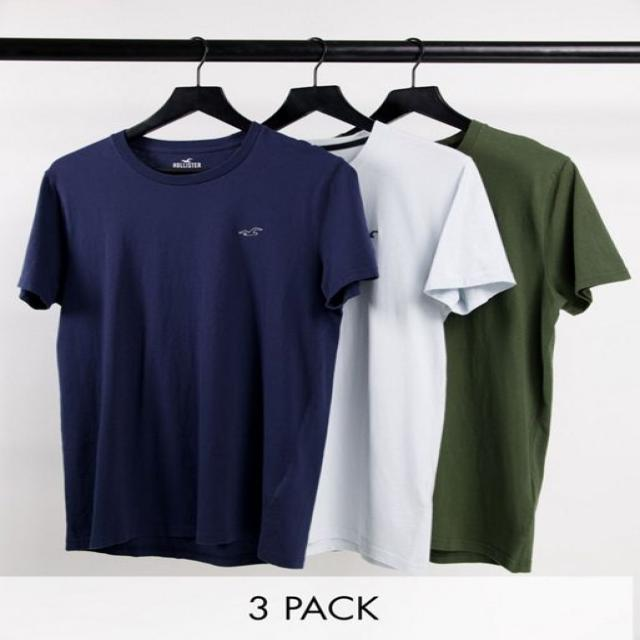tshirt: (18, 117, 376, 566)
